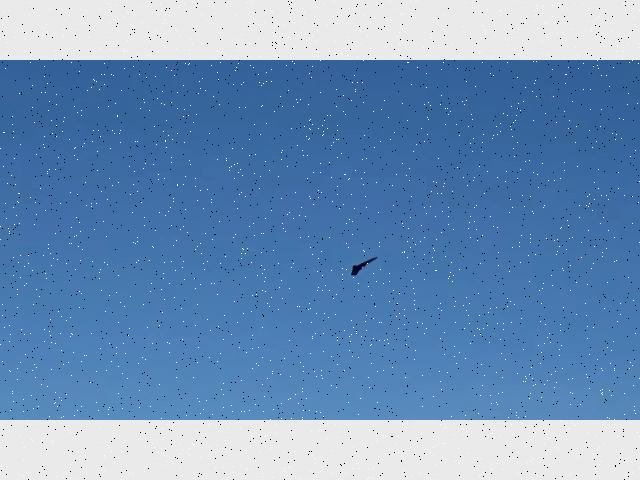Anti-Drone: (340, 247, 382, 283)
